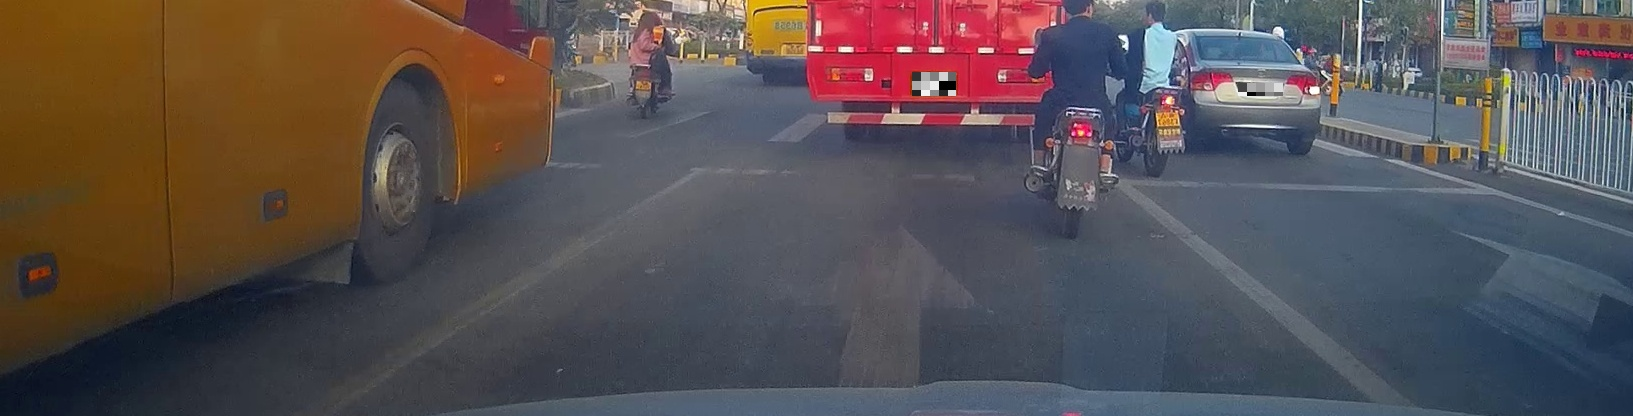L_light: (1189, 69, 1234, 91)
R_light: (1285, 73, 1321, 96)
T_light: (1232, 36, 1251, 45)
day-right: (1181, 28, 1321, 155)
plate_1: (912, 72, 956, 96)
plate_2: (1238, 83, 1283, 96)
